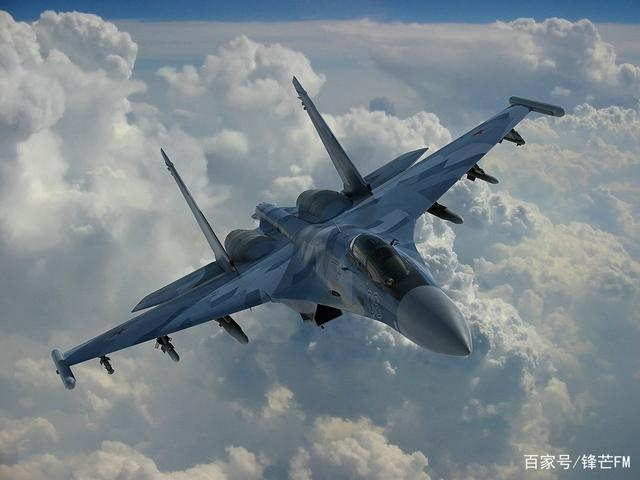airplane: (46, 74, 567, 396)
